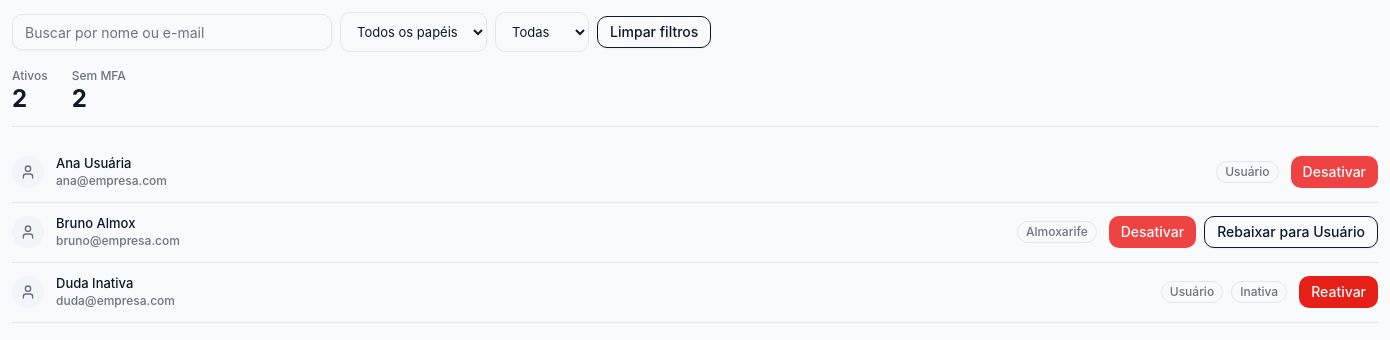
it: GestaoUsuariosSection › filtros por papel e situação e "Limpar filtros"
Expected: the text "Ana Usuária" is shown, left=56, top=155, right=132, bottom=171
Select "Almoxarife" in the dropdown named "Papel" at x=414, y=32, box left=340, top=12, right=487, bottom=52
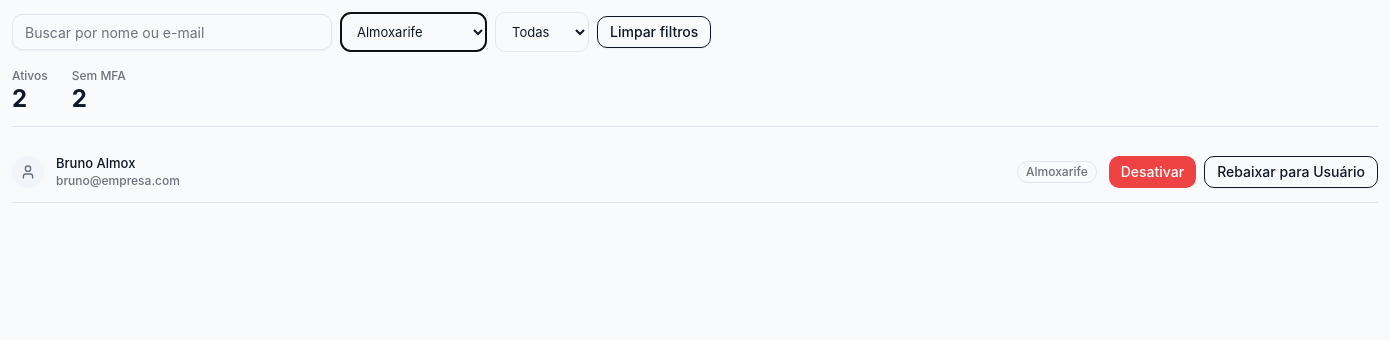
Expected: the text "Bruno Almox" is shown, left=56, top=155, right=135, bottom=171
Now the text "Ana Usuária" is gone
Click the button "Limpar filtros".
click(654, 32)  # box left=597, top=16, right=711, bottom=48
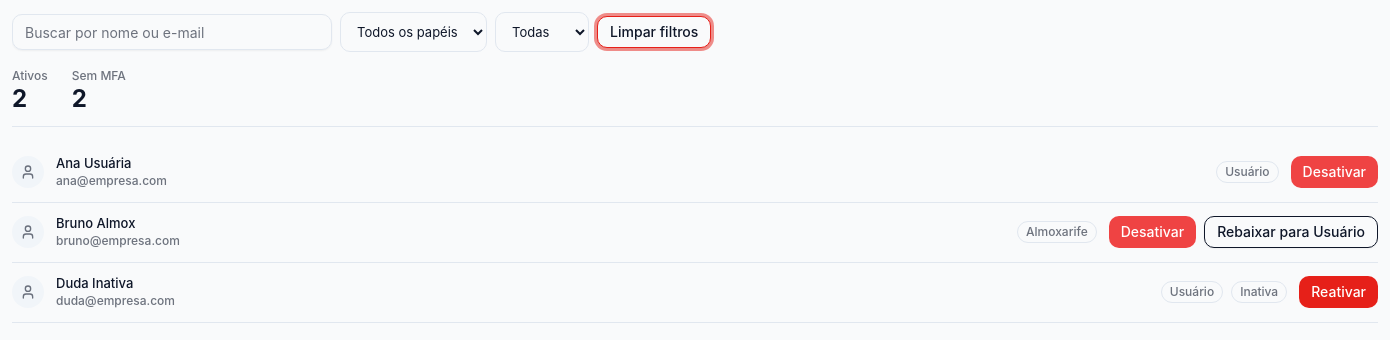
Select "Inativas" in the dropdown named "Situação" at x=542, y=32, box left=495, top=12, right=589, bottom=52
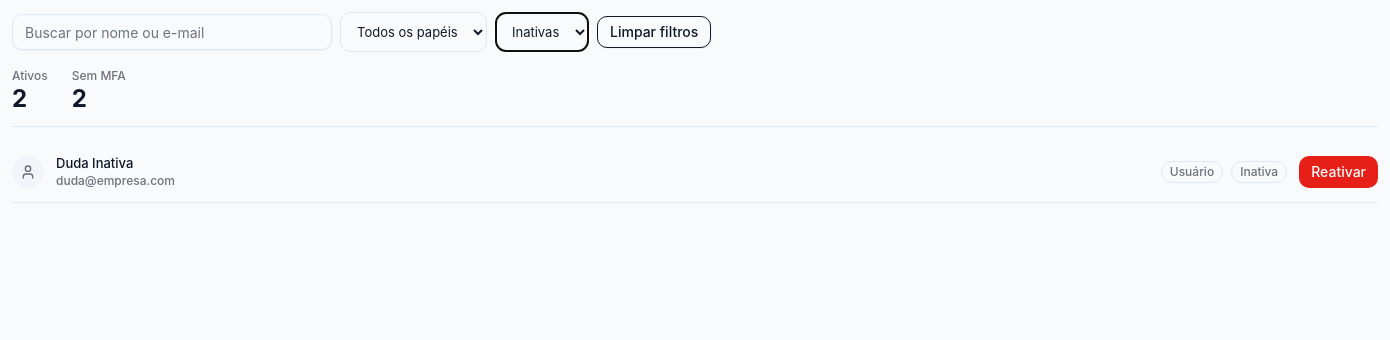
Now the text "Duda Inativa" is shown, box left=56, top=155, right=133, bottom=171
Now the text "Inativa" is shown, box left=1231, top=161, right=1287, bottom=184
Now the text "Ana Usuária" is gone
Click the button "Limpar filtros".
click(654, 32)  # box left=597, top=16, right=711, bottom=48
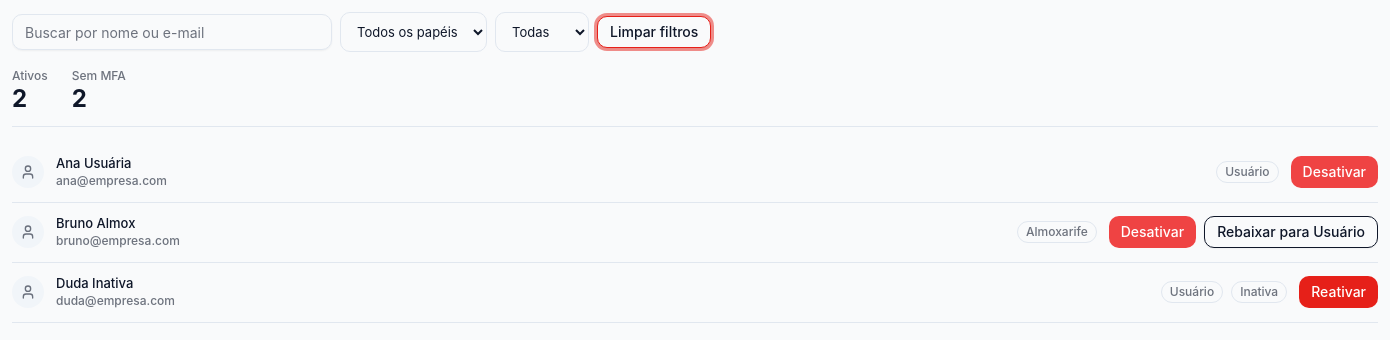
Now the text "Ana Usuária" is shown, box left=56, top=155, right=132, bottom=171
Now the text "Bruno Almox" is shown, box left=56, top=215, right=135, bottom=231
